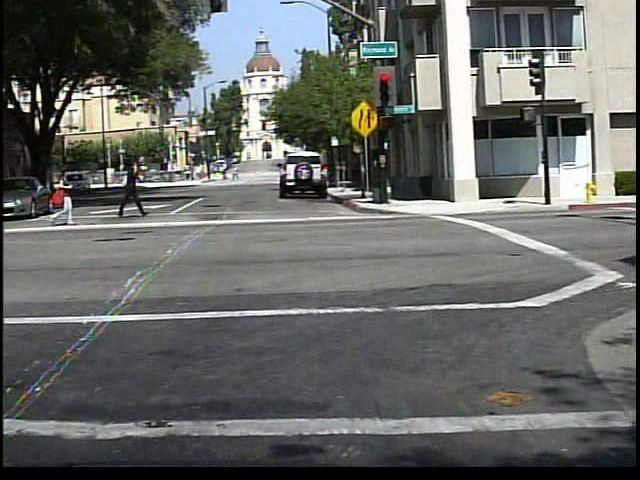person: (110, 157, 148, 222), (43, 162, 77, 229), (228, 165, 239, 185), (218, 166, 228, 185)
